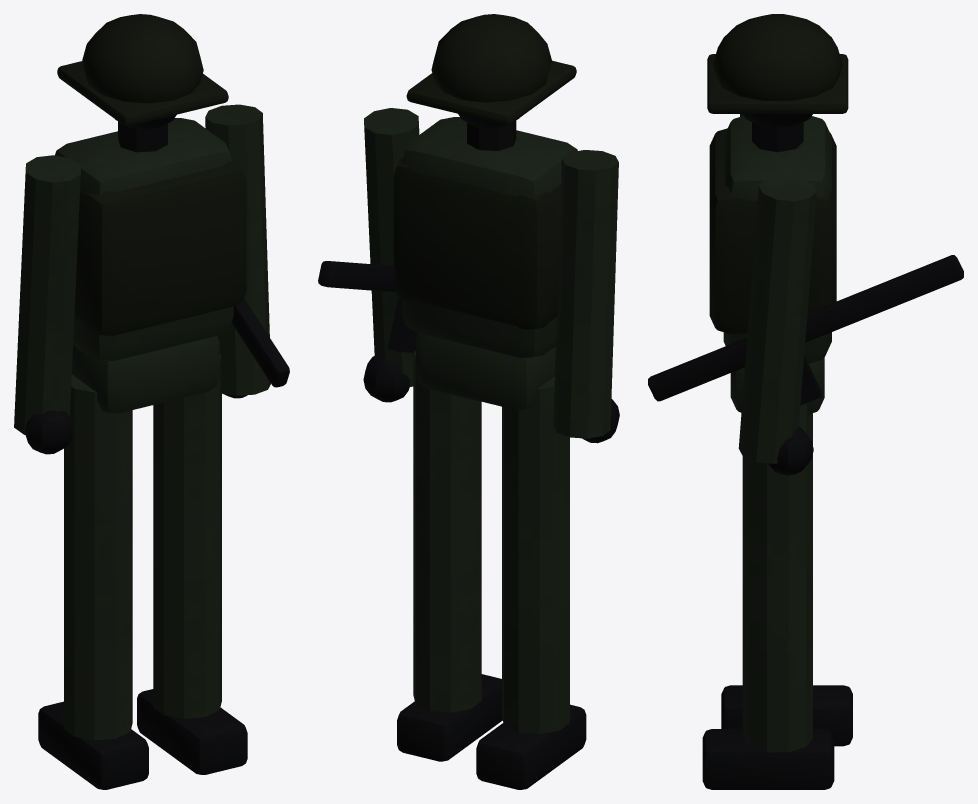
The model's file is fac_person_a.glb.
3 renders of one model, left to right at view 1: azimuth 30°, elevation 25°; view 2: azimuth 150°, elevation 25°; view 3: azimuth 270°, elevation 25°, orthographic.
Parts seen in each view (by area): view 1: FAC_PERSON_A; view 2: FAC_PERSON_A; view 3: FAC_PERSON_A.
Part boxes in pixels (x1,y1,x2,y2): FAC_PERSON_A: (14, 14, 289, 789); FAC_PERSON_A: (318, 14, 619, 789); FAC_PERSON_A: (648, 14, 963, 789).
Size of the model in its own units: 0.6 by 1.73 by 0.6724.
3 materials, 3 textured.
